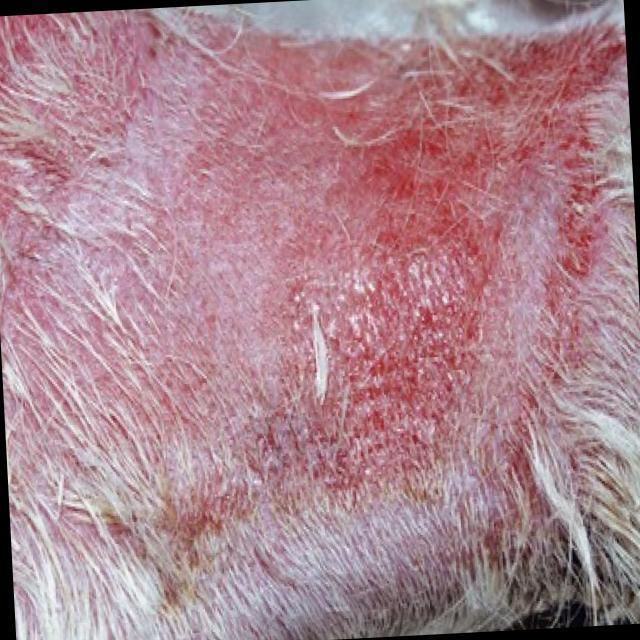fungal infection: (353, 45, 598, 192), (350, 240, 443, 468), (114, 464, 255, 602), (0, 13, 173, 122), (256, 267, 338, 466), (484, 387, 554, 525), (0, 122, 68, 261), (266, 467, 444, 508), (550, 218, 592, 374), (377, 198, 497, 248), (459, 258, 484, 347), (564, 196, 604, 219)
